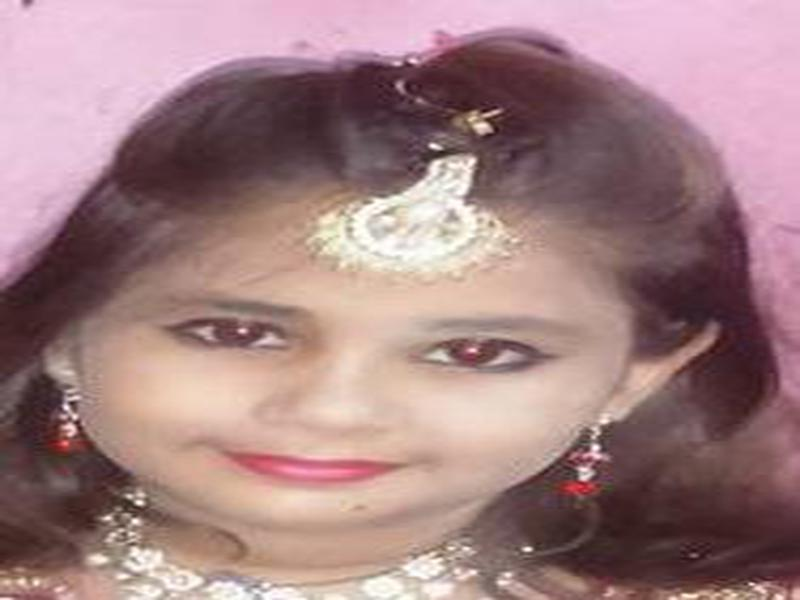without_mask: (78, 178, 600, 544)
